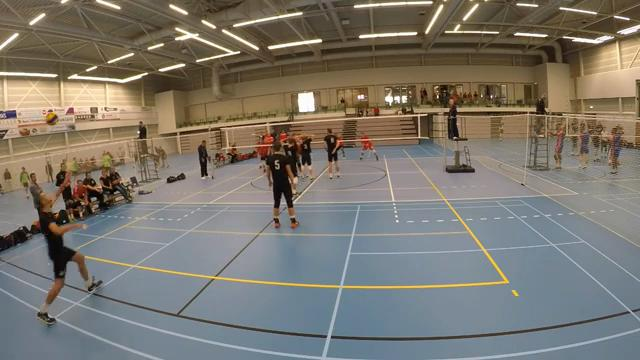Player: (266, 142, 298, 227), (283, 138, 297, 195), (324, 128, 339, 178), (300, 134, 313, 179), (360, 132, 378, 160), (256, 138, 268, 170), (292, 133, 301, 174), (263, 133, 274, 155), (337, 136, 345, 159), (279, 130, 289, 144)
Serve: (22, 168, 108, 336)
ball: (44, 113, 59, 127)
